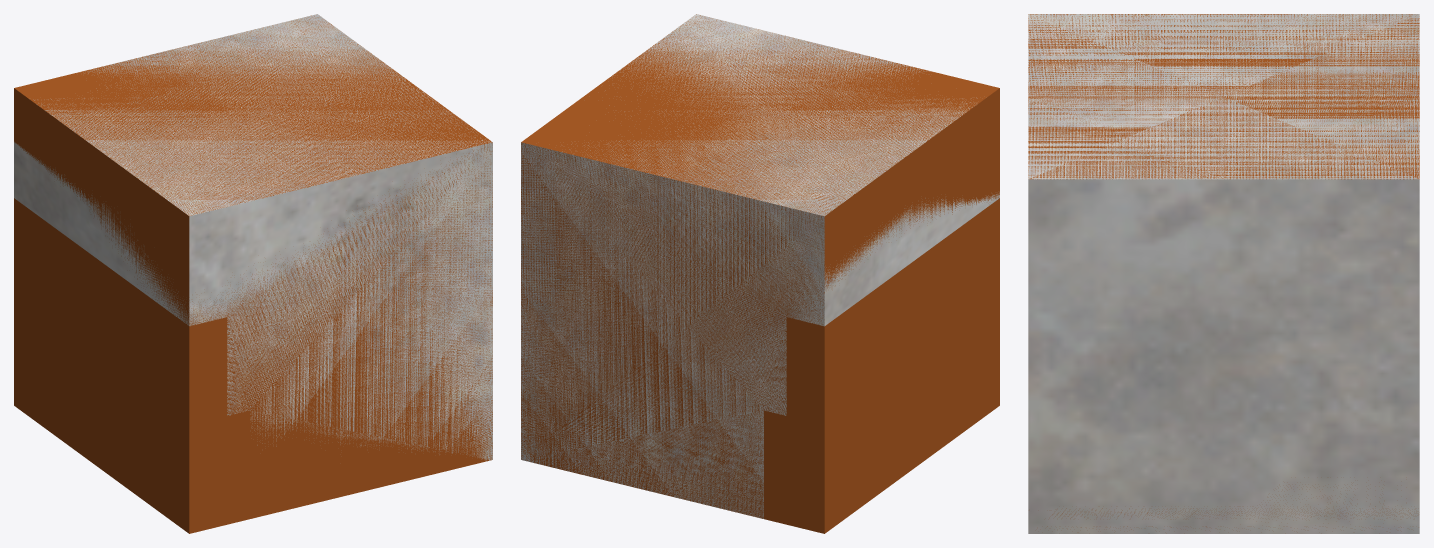
The model's file is warehouse_wall_trim_plug.DAE.
3 renders of one model, left to right at view 1: azimuth 30°, elevation 25°; view 2: azimuth 150°, elevation 25°; view 3: azimuth 270°, elevation 25°, orthographic. The views are drawn at different scales.
Parts seen in each view (by area): view 1: colbox-01, warehouse_wall_trim_plug; view 2: colbox-01, warehouse_wall_trim_plug; view 3: warehouse_wall_trim_plug, colbox-01.
Boxes of the visible parts, x1,y1,x2,y2 form: colbox-01: (14,15,492,533); warehouse_wall_trim_plug: (14,14,492,460); colbox-01: (521,14,999,533); warehouse_wall_trim_plug: (521,14,999,518); warehouse_wall_trim_plug: (1028,14,1419,533); colbox-01: (1028,14,1419,529).
Bounding box in the file's own units: 80 × 80 × 80.
Materials: 3 (1 with a texture image).
